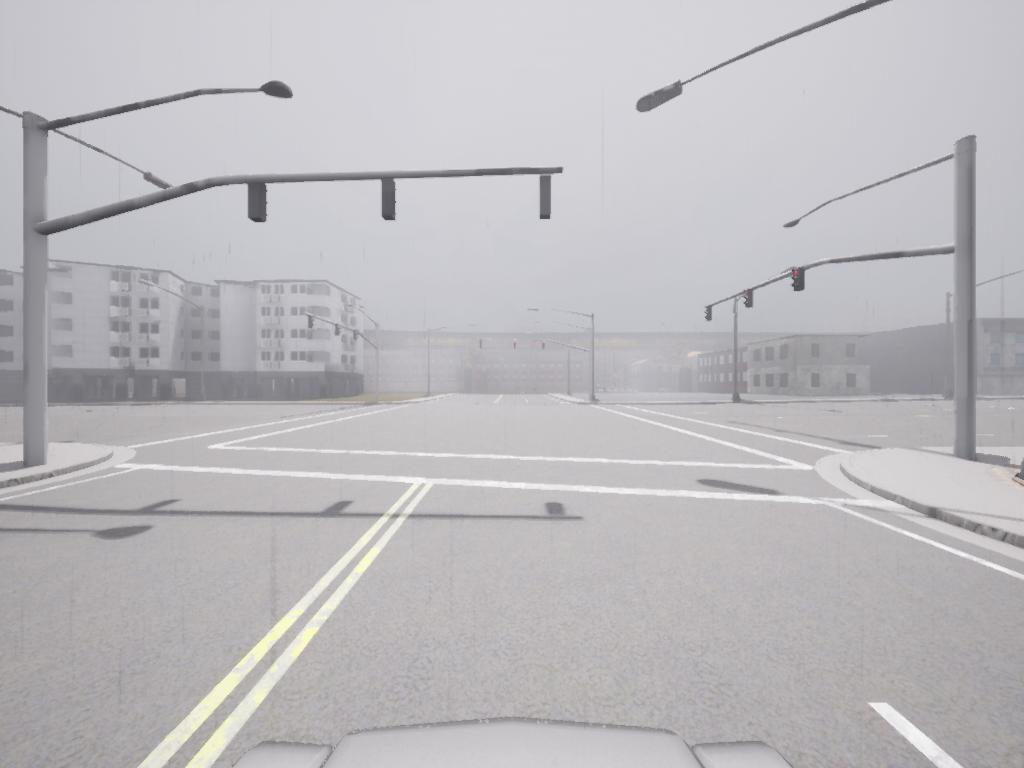traffic_light: (248, 181, 272, 223), (379, 180, 399, 221), (540, 176, 551, 223), (789, 268, 803, 293), (794, 268, 807, 293), (744, 290, 754, 309), (308, 315, 316, 332), (706, 306, 714, 323), (335, 324, 341, 338), (354, 330, 360, 343), (542, 339, 548, 352), (512, 340, 518, 352), (479, 339, 484, 350)
